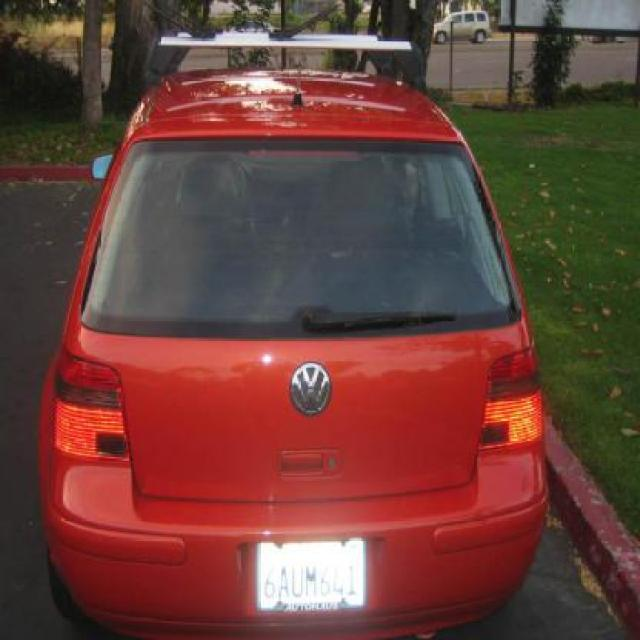Licenseplate: (256, 540, 364, 616)
